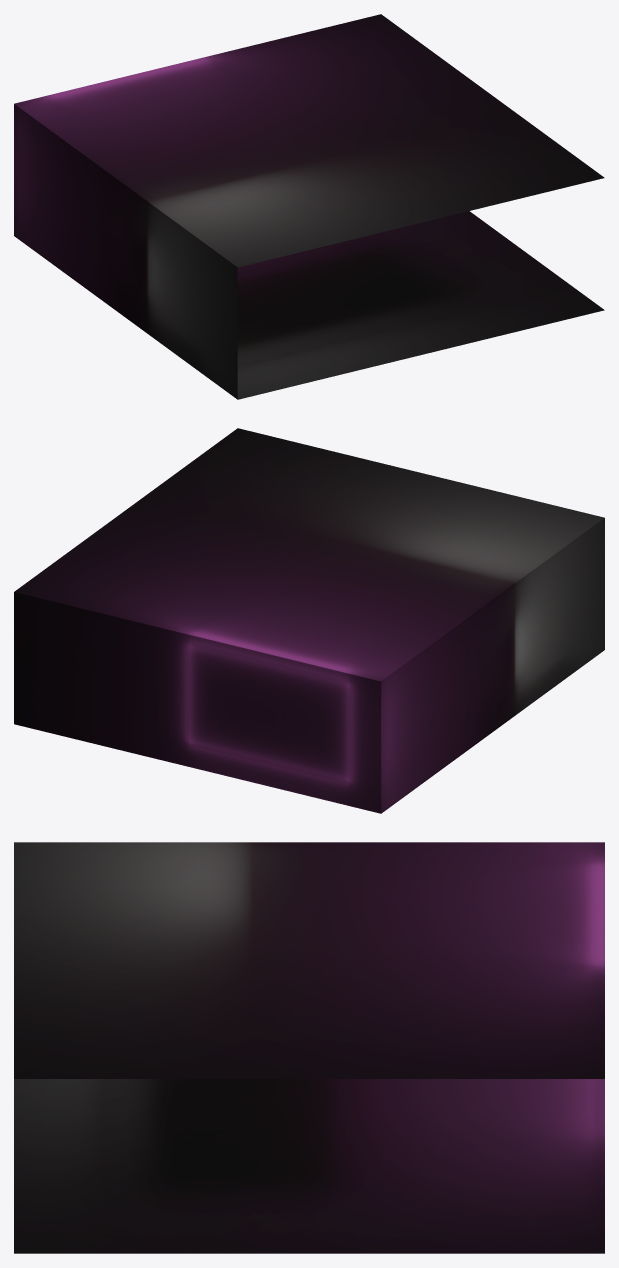
The model's file is room.glb.
3 renders of one model, top to bottom at view 1: azimuth 30°, elevation 25°; view 2: azimuth 150°, elevation 25°; view 3: azimuth 270°, elevation 25°, orthographic. The views are drawn at different scales.
Visible parts, largest first — view 1: House; view 2: House; view 3: House.
Boxes of the visible parts, x1,y1,x2,y2 form: House: (14,14,604,399); House: (14,428,604,813); House: (14,842,604,1253).
Bounding box in the file's own units: 7.76 × 2.67 × 8.19.
1 material, 1 textured.
